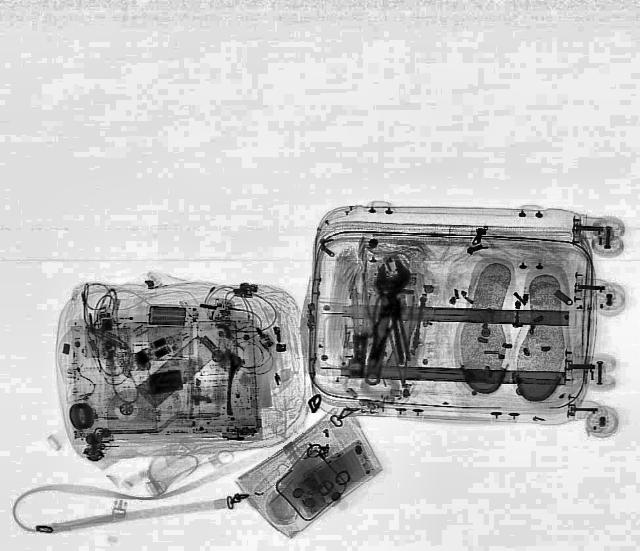Wrench: (352, 259, 412, 387)
